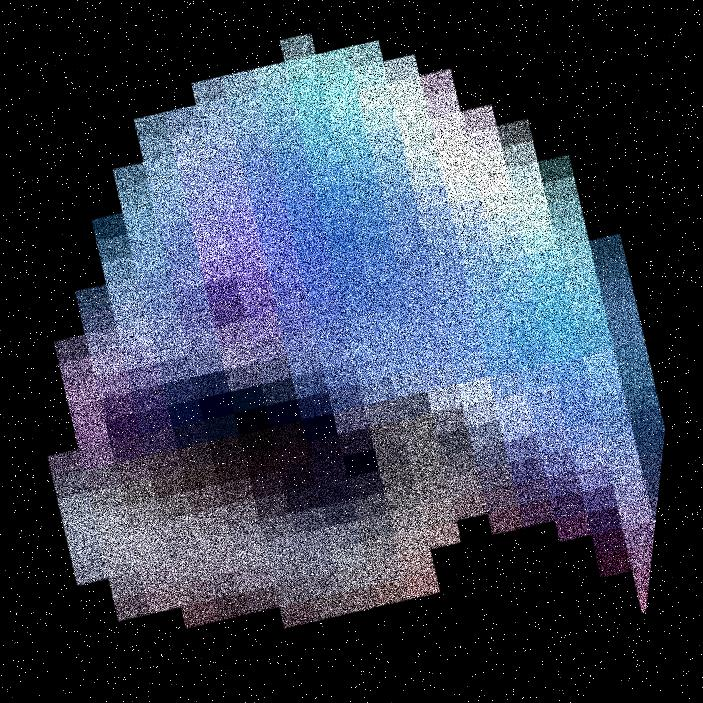Capacete: (144, 0, 613, 702)
